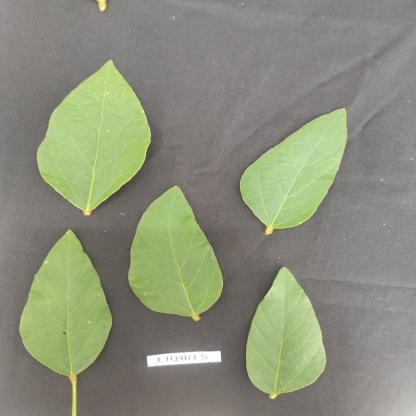label: (147, 342, 225, 380)
leaflets: (231, 84, 370, 242), (6, 206, 121, 384), (30, 45, 160, 202), (128, 175, 241, 319), (240, 265, 346, 403)
